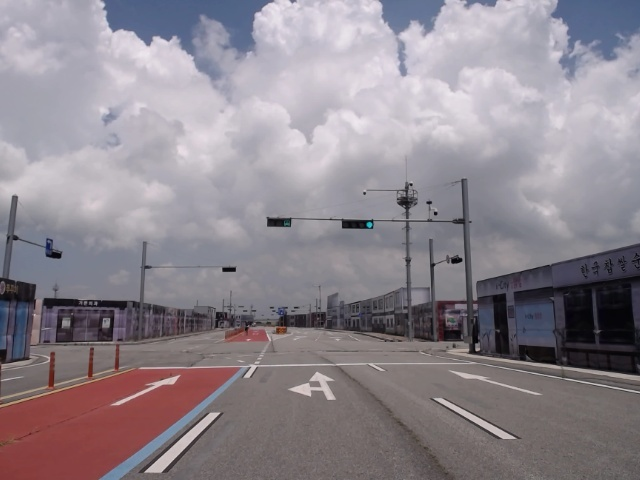straight_green_4: (343, 221, 374, 227)
